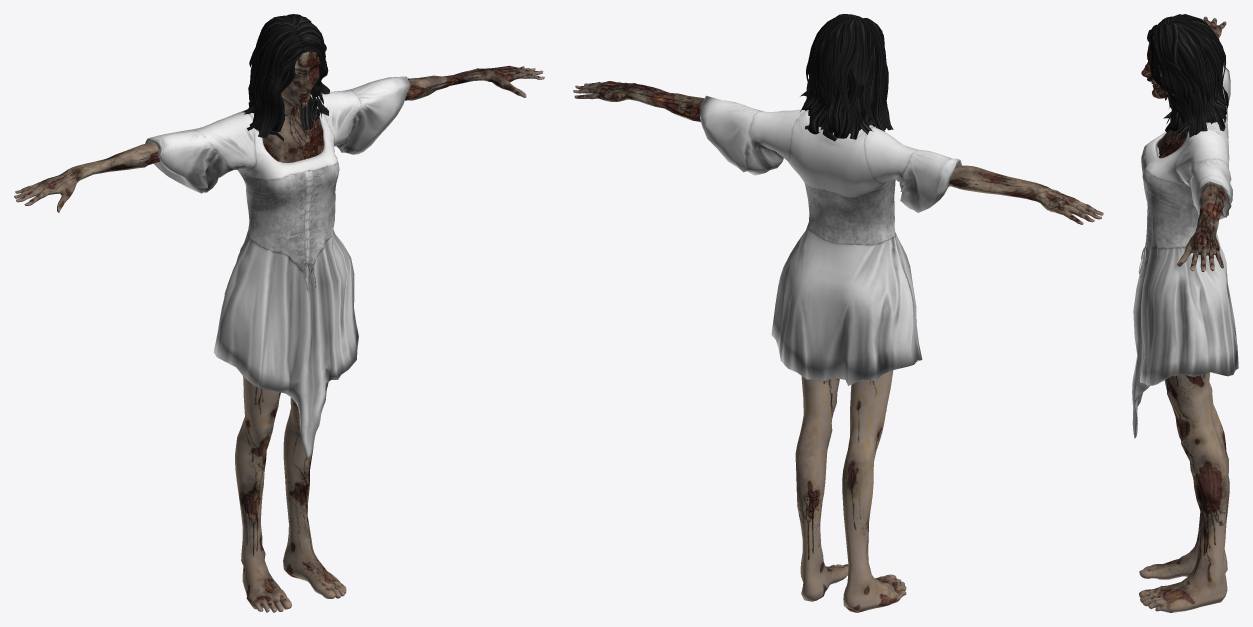
Rendered from HorrorGirl.obj.
3 renders of one model, left to right at view 1: azimuth 30°, elevation 25°; view 2: azimuth 150°, elevation 25°; view 3: azimuth 270°, elevation 25°, orthographic.
Parts seen in each view (by area): view 1: Tops, Body, Hair; view 2: Tops, Body, Hair; view 3: Tops, Body, Hair.
Boxes of the visible parts, x1,y1,x2,y2 form: Tops: (145,76,410,461); Body: (14,51,544,612); Hair: (242,14,329,142); Tops: (700,95,961,410); Body: (573,81,1103,612); Hair: (800,14,893,141); Tops: (1132,65,1238,438); Body: (1139,16,1229,612); Hair: (1147,14,1228,140).
Bounding box in the file's own units: 167 × 175 × 29.47.
3 materials, 3 textured.
